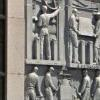Statue: (26, 4, 77, 72)
